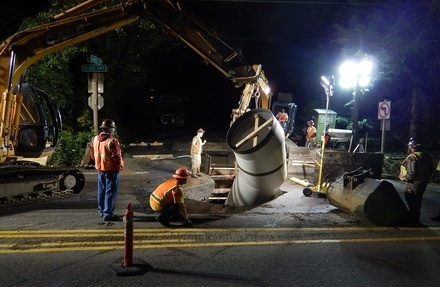blue: (407, 135, 423, 151)
red: (173, 165, 190, 183), (100, 118, 116, 134), (197, 127, 205, 137), (307, 120, 315, 127)
